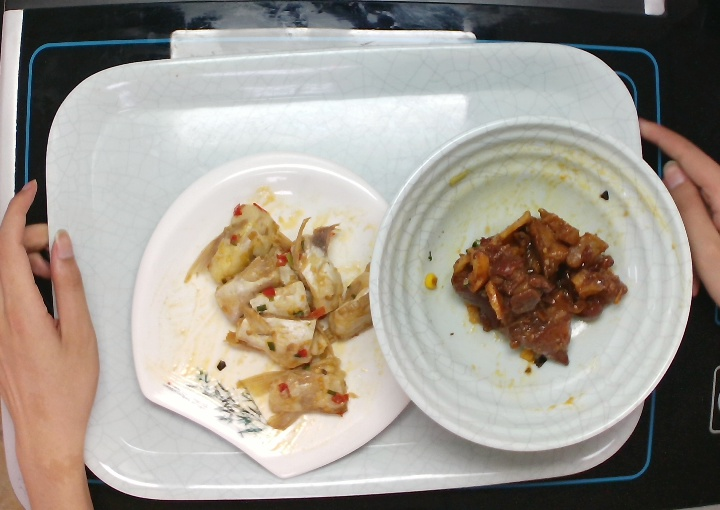JYsf-Da_Tang_Wan: (362, 115, 696, 458)
JYsf-Mian_Pan: (123, 145, 397, 484)
